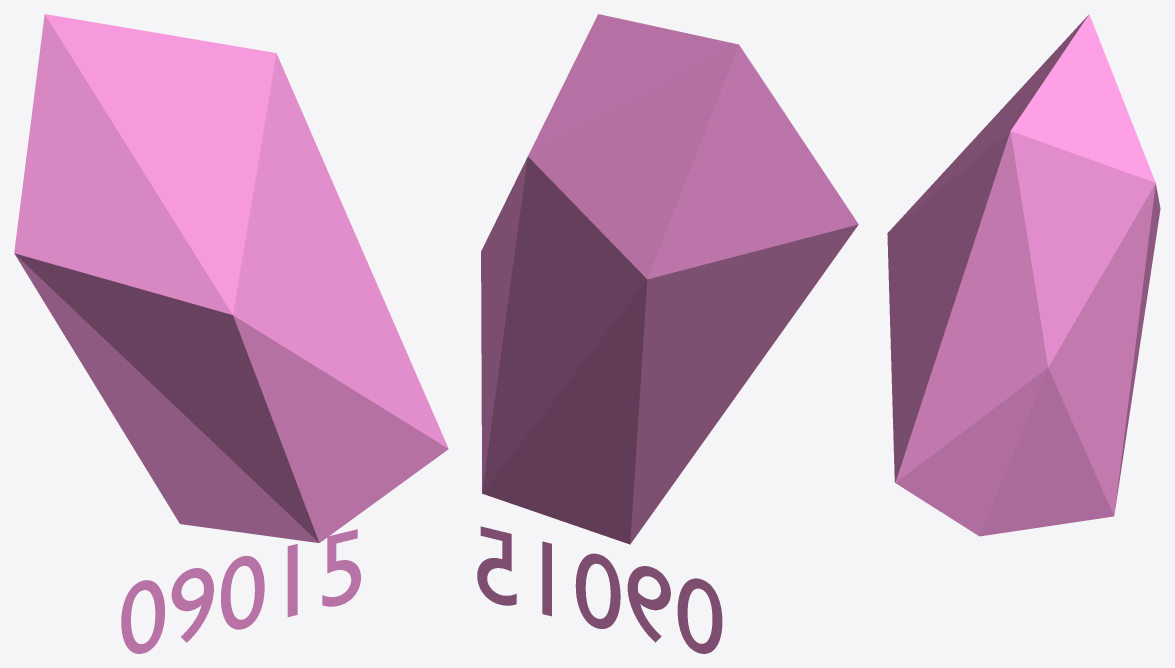
3 views of the same model, side by side, from view 1: azimuth 30°, elevation 25°; view 2: azimuth 150°, elevation 25°; view 3: azimuth 270°, elevation 25° (orthographic). The views are drawn at different scales.
Parts seen in each view (by area): view 1: Text; view 2: Text; view 3: Text.
Part boxes in pixels (x1=…): Text: x1=14, y1=14, x2=448, y2=653; Text: x1=477, y1=14, x2=858, y2=653; Text: x1=887, y1=14, x2=1160, y2=536.
Size of the model in its own units: 3.68 by 6.09 by 2.84.
